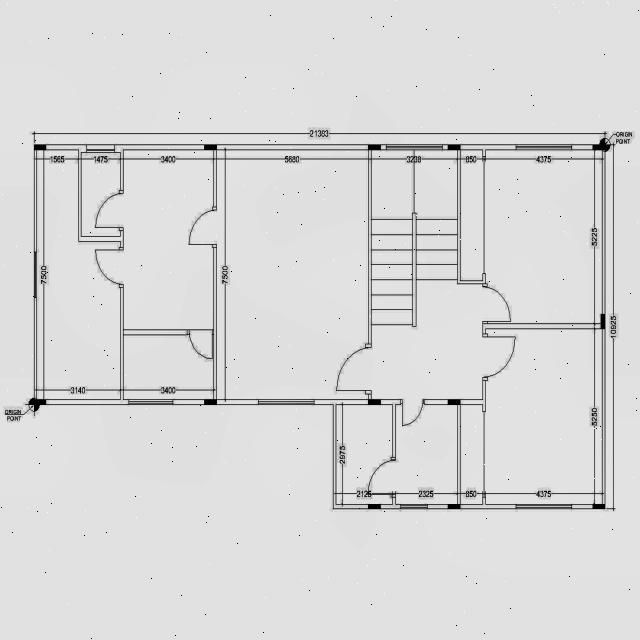Column: (368, 399, 381, 405), (204, 399, 217, 405), (204, 144, 217, 150), (368, 144, 381, 150), (593, 144, 605, 150), (448, 399, 460, 405), (34, 399, 46, 405), (34, 144, 46, 150), (448, 144, 460, 150), (368, 504, 381, 509), (601, 314, 605, 329), (593, 504, 605, 509), (448, 504, 460, 509)
Door: (336, 342, 374, 396), (482, 332, 516, 382), (94, 246, 125, 290), (94, 188, 124, 232), (188, 205, 218, 249), (482, 282, 512, 326), (368, 456, 397, 500), (186, 328, 215, 360), (400, 397, 426, 427)
Staircase: (365, 166, 463, 330)
Window: (385, 144, 443, 152), (515, 503, 573, 511), (258, 398, 316, 406), (515, 144, 573, 151), (128, 398, 174, 406), (86, 144, 116, 154), (34, 250, 38, 298), (399, 504, 428, 509)
